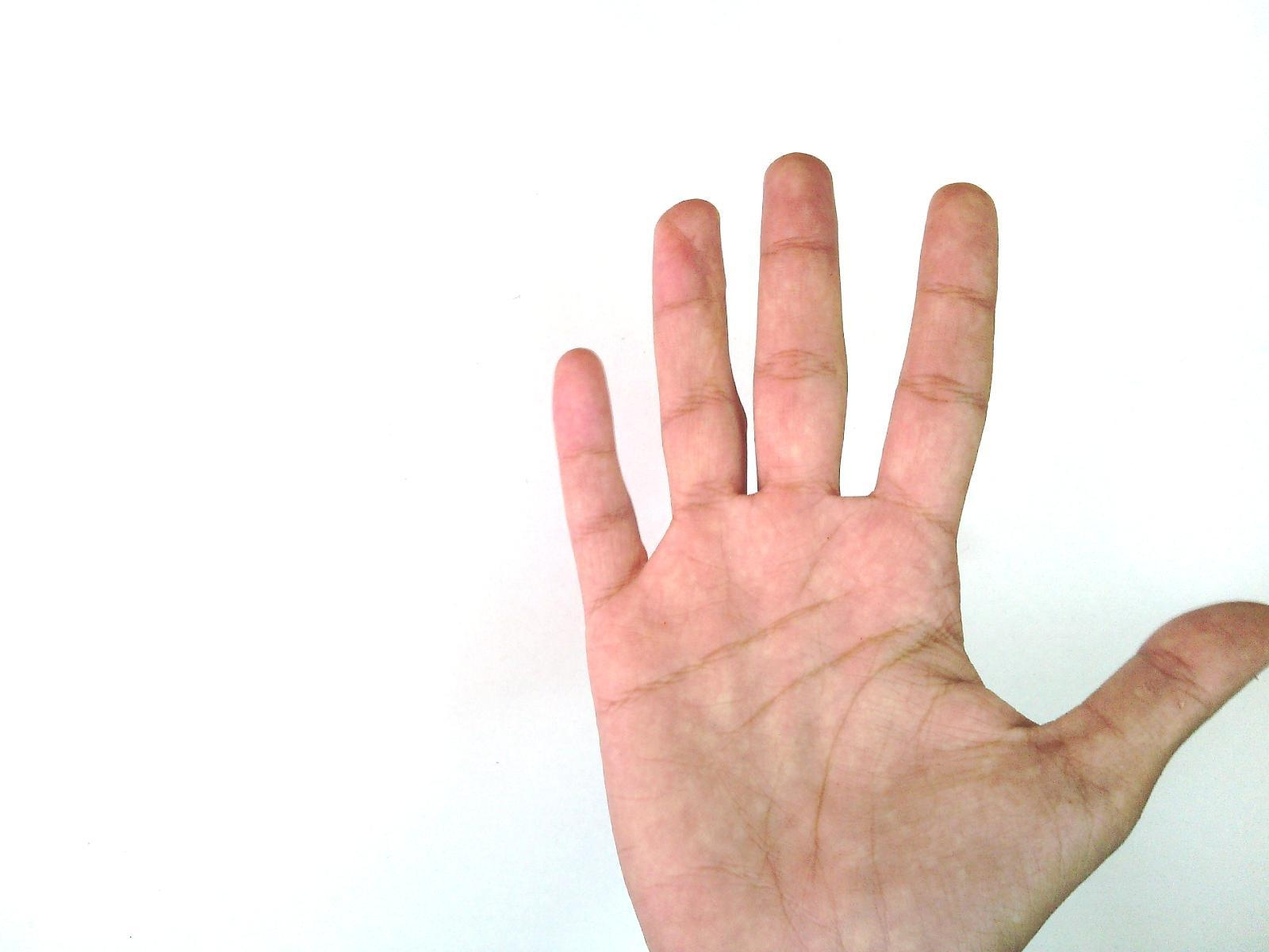open_palm: (547, 151, 1267, 951)
